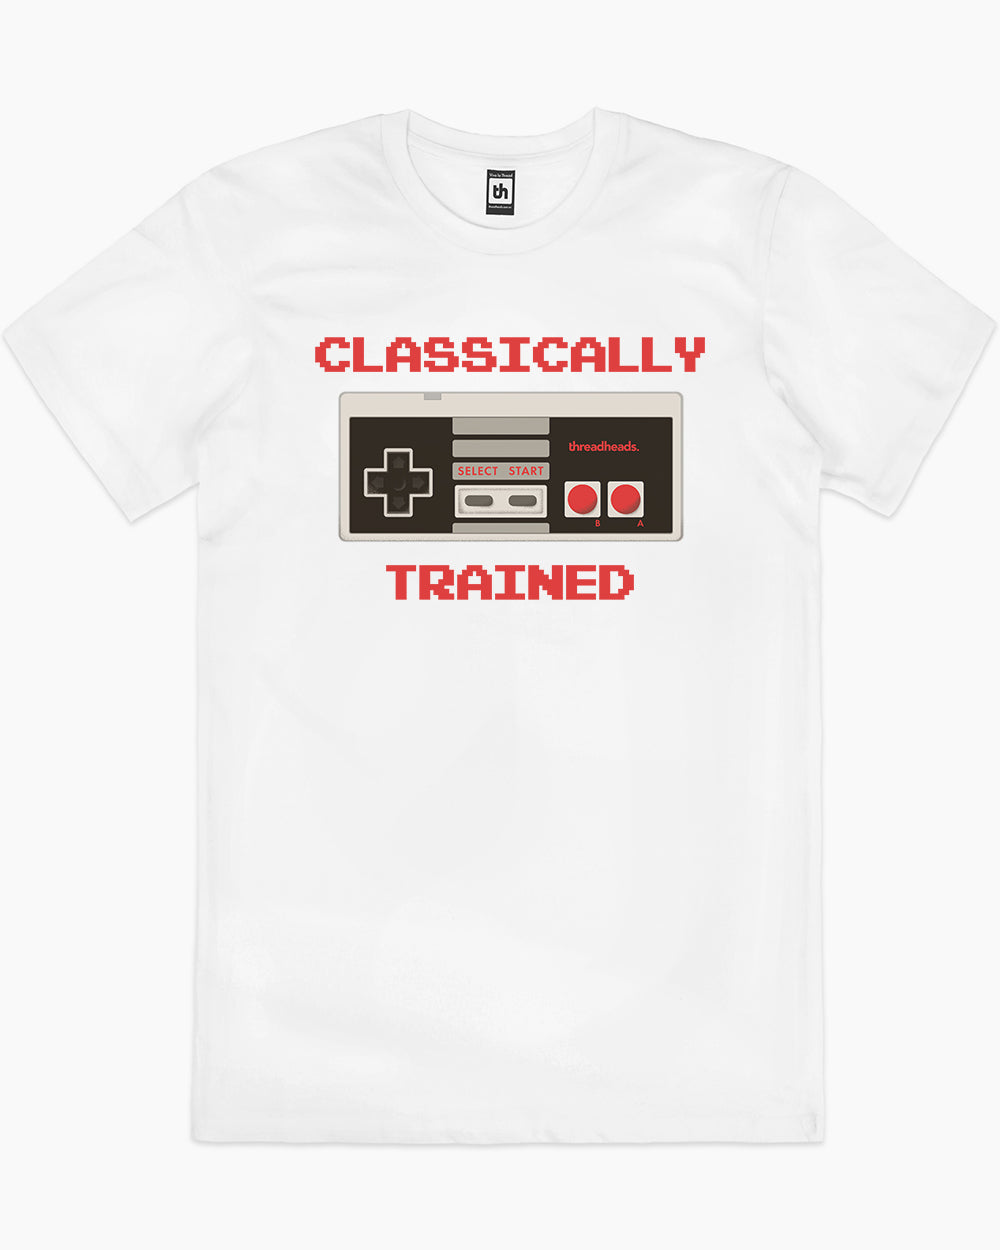design: (310, 330, 710, 606)
